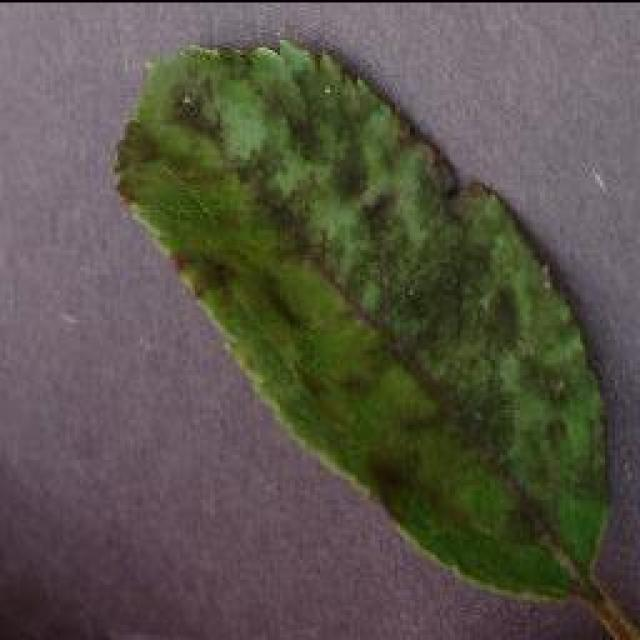apple scab disease: (110, 32, 622, 610)
